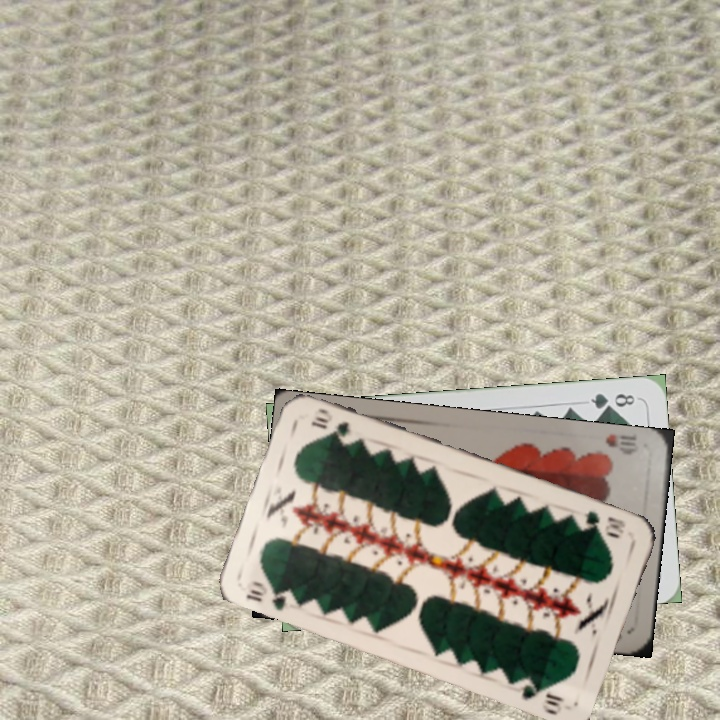G10: (242, 577, 298, 613), (579, 507, 628, 541)
G8: (586, 389, 638, 413)
H10: (601, 430, 642, 458)
